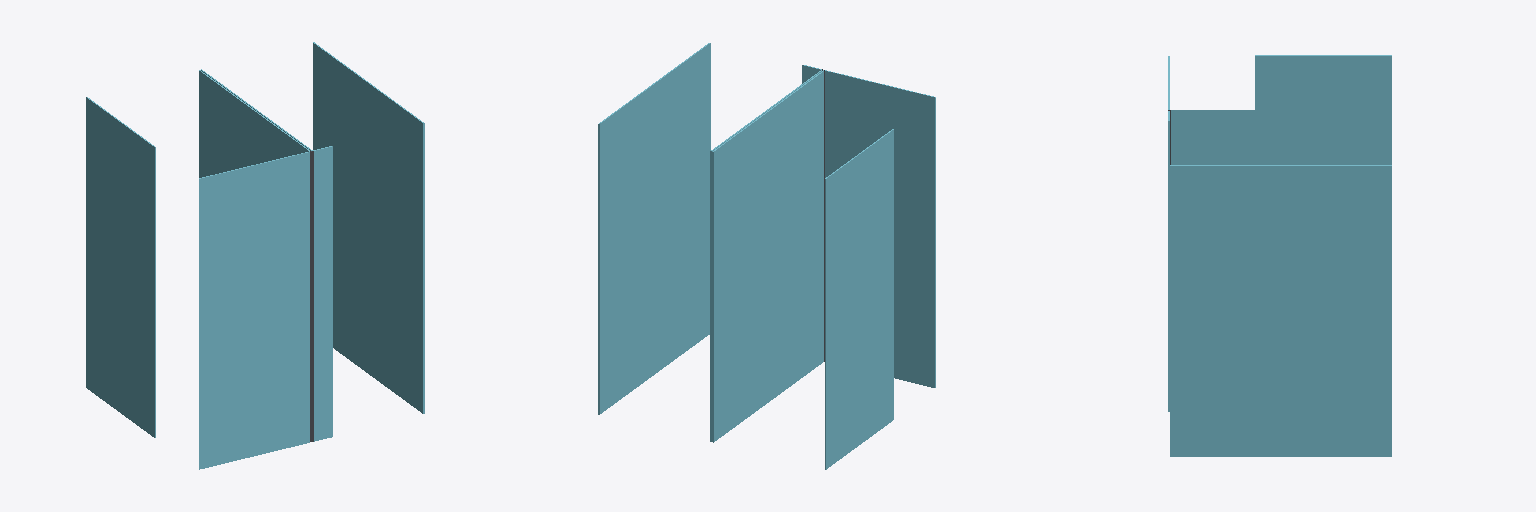
The model's file is Wandelemente.obj.
The picture shows the model from 3 angles: view 1: azimuth 30°, elevation 25°; view 2: azimuth 150°, elevation 25°; view 3: azimuth 270°, elevation 25°; orthographic projection.
Visible parts, largest first — view 1: Mesh13 Component_2051 G_8_V3_Wandelemente_dwg1 Model, Mesh4 Component_2028 G_8_V3_Wandelemente_dwg1 Model, Mesh15 Component_2052 G_8_V3_Wandelemente_dwg1 Model, Mesh11 Component_2050 G_8_V3_Wandelemente_dwg1 Model, Mesh17 Component_2076 G_8_V3_Wandelemente_dwg1 Model, Mesh1 Component_2027 G_8_V3_Wandelemente_dwg1 Model, Mesh8 Component_2049 G_8_V3_Wandelemente_dwg1 Model; view 2: Mesh4 Component_2028 G_8_V3_Wandelemente_dwg1 Model, Mesh11 Component_2050 G_8_V3_Wandelemente_dwg1 Model, Mesh15 Component_2052 G_8_V3_Wandelemente_dwg1 Model, Mesh13 Component_2051 G_8_V3_Wandelemente_dwg1 Model, Mesh6 Component_2030 G_8_V3_Wandelemente_dwg1 Model; view 3: Mesh4 Component_2028 G_8_V3_Wandelemente_dwg1 Model, Mesh6 Component_2030 G_8_V3_Wandelemente_dwg1 Model, Mesh15 Component_2052 G_8_V3_Wandelemente_dwg1 Model, Mesh17 Component_2076 G_8_V3_Wandelemente_dwg1 Model.
Boxes of the visible parts, <box> form: Mesh13 Component_2051 G_8_V3_Wandelemente_dwg1 Model: <box>199,151,309,469</box>; Mesh4 Component_2028 G_8_V3_Wandelemente_dwg1 Model: <box>313,42,424,413</box>; Mesh15 Component_2052 G_8_V3_Wandelemente_dwg1 Model: <box>86,97,155,437</box>; Mesh11 Component_2050 G_8_V3_Wandelemente_dwg1 Model: <box>199,70,309,177</box>; Mesh17 Component_2076 G_8_V3_Wandelemente_dwg1 Model: <box>313,146,332,441</box>; Mesh1 Component_2027 G_8_V3_Wandelemente_dwg1 Model: <box>312,151,313,441</box>; Mesh8 Component_2049 G_8_V3_Wandelemente_dwg1 Model: <box>310,151,311,441</box>; Mesh4 Component_2028 G_8_V3_Wandelemente_dwg1 Model: <box>598,43,710,414</box>; Mesh11 Component_2050 G_8_V3_Wandelemente_dwg1 Model: <box>712,70,823,442</box>; Mesh15 Component_2052 G_8_V3_Wandelemente_dwg1 Model: <box>825,129,893,469</box>; Mesh13 Component_2051 G_8_V3_Wandelemente_dwg1 Model: <box>825,70,935,387</box>; Mesh6 Component_2030 G_8_V3_Wandelemente_dwg1 Model: <box>710,70,821,441</box>; Mesh4 Component_2028 G_8_V3_Wandelemente_dwg1 Model: <box>1170,165,1391,456</box>; Mesh6 Component_2030 G_8_V3_Wandelemente_dwg1 Model: <box>1171,111,1391,164</box>; Mesh15 Component_2052 G_8_V3_Wandelemente_dwg1 Model: <box>1255,55,1391,109</box>; Mesh17 Component_2076 G_8_V3_Wandelemente_dwg1 Model: <box>1168,111,1169,411</box>.
Size of the model in its own units: 188 by 230 by 160.